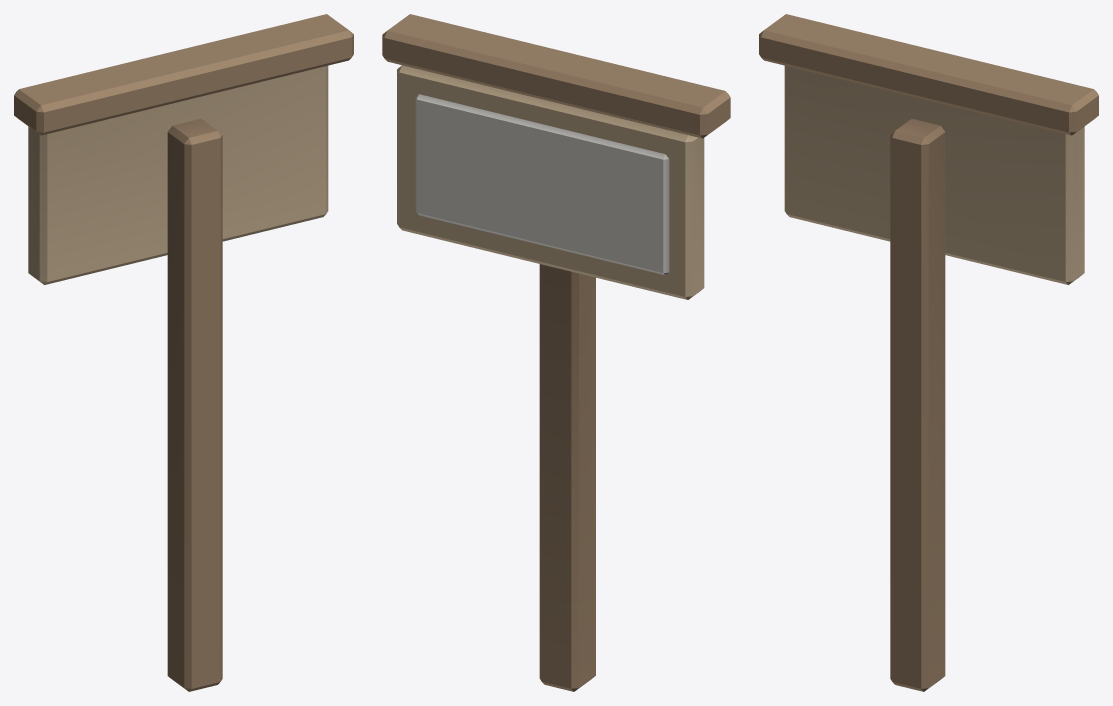
File: home_nameplate__base.glb
3 views of the same model, side by side, from view 1: azimuth 30°, elevation 25°; view 2: azimuth 150°, elevation 25°; view 3: azimuth 330°, elevation 25° (orthographic). The views are drawn at different scales.
Bounding box in the file's own units: 0.66 × 1.22 × 0.1375.
